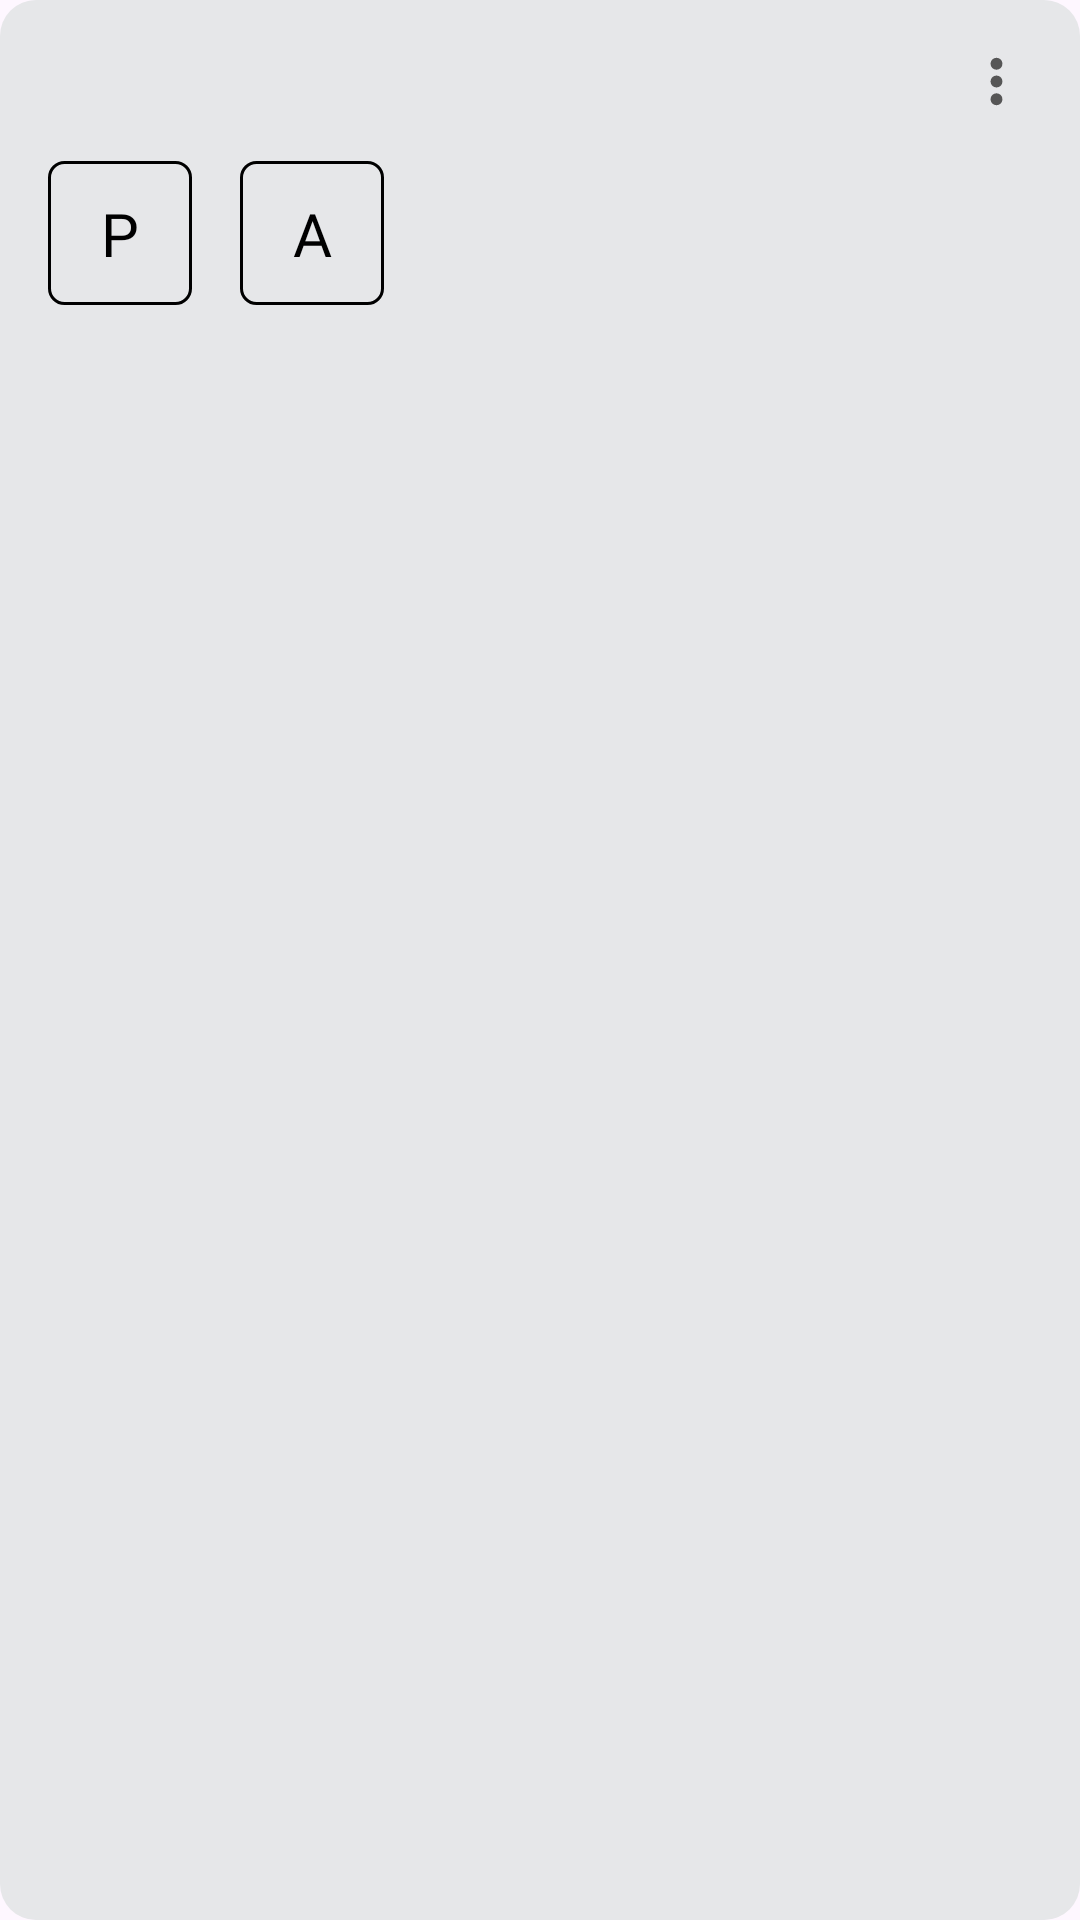

Screen size 1080px x 1920px. Icon name, then its center in pixels as (x=x, y=y):
more vert: (x=996, y=81)
